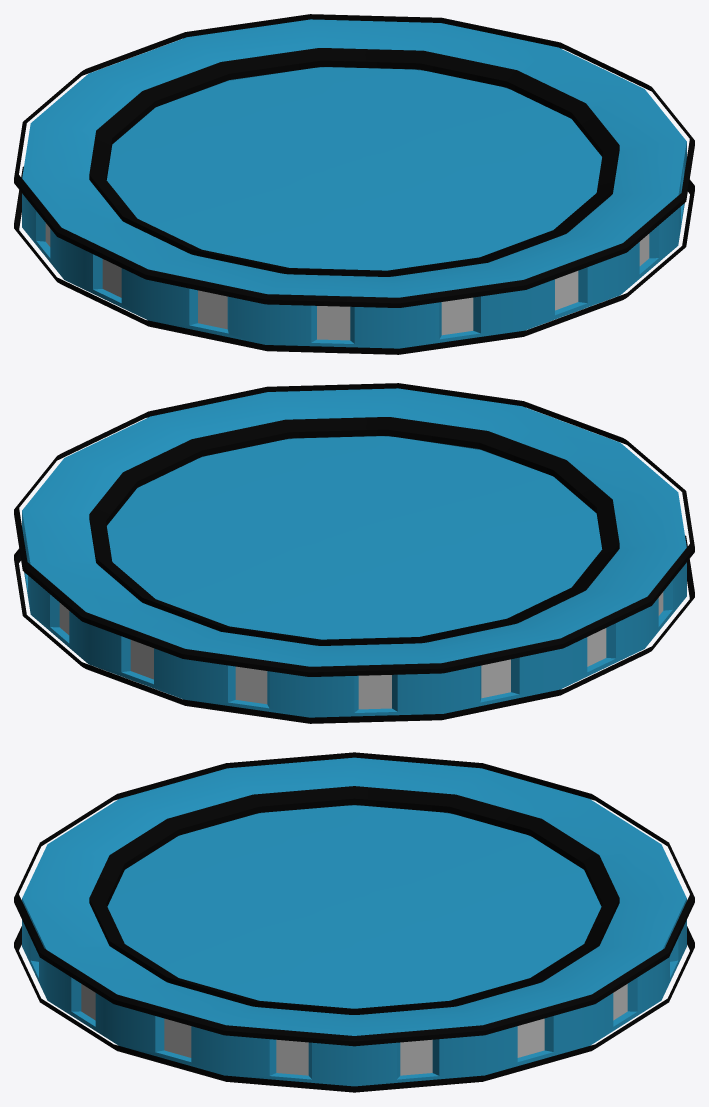
The model's file is Fighting (1) 2.fbx.
3 renders of one model, top to bottom at view 1: azimuth 30°, elevation 25°; view 2: azimuth 150°, elevation 25°; view 3: azimuth 270°, elevation 25°, orthographic.
Parts seen in each view (by area): view 1: Cylinder.012; view 2: Cylinder.012; view 3: Cylinder.012.
Part boxes in pixels (<box>): Cylinder.012: <box>14,14,694,354</box>; Cylinder.012: <box>14,383,694,723</box>; Cylinder.012: <box>14,752,694,1092</box>.
Size of the model in its own units: 76.85 by 7.47 by 76.85.
